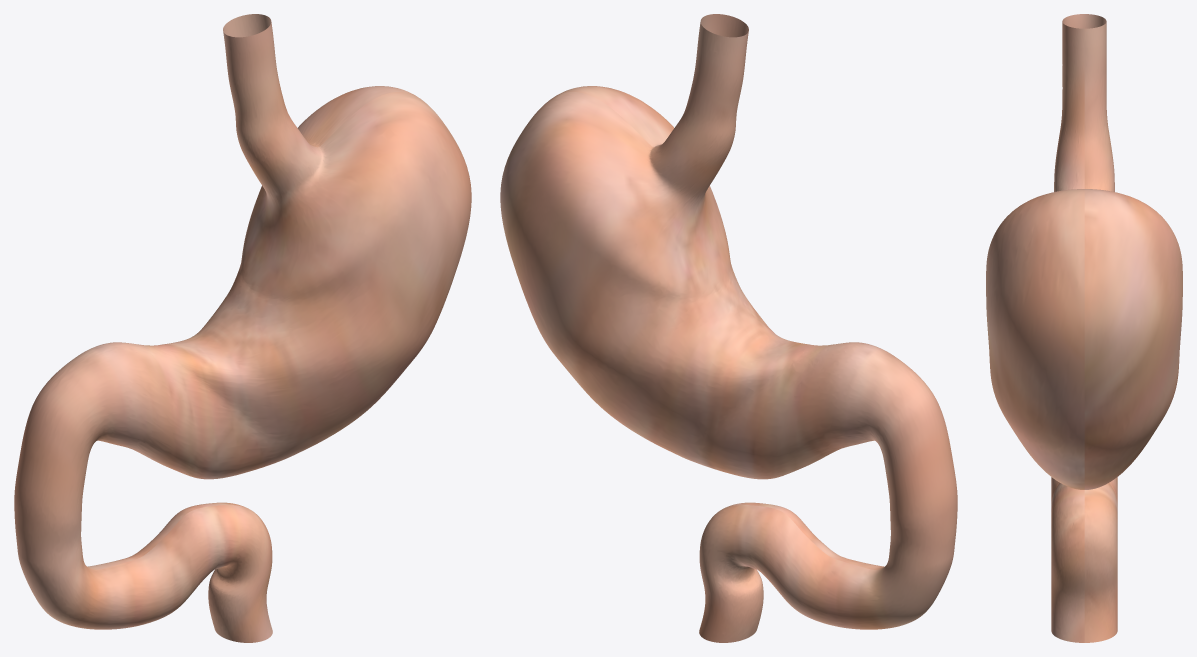
Rendered from stomach.glb.
3 renders of one model, left to right at view 1: azimuth 30°, elevation 25°; view 2: azimuth 150°, elevation 25°; view 3: azimuth 270°, elevation 25°, orthographic.
Parts seen in each view (by area): view 1: udambu; view 2: udambu; view 3: udambu.
Part boxes in pixels (x1,y1,x2,y2): udambu: (14, 14, 471, 642); udambu: (500, 14, 957, 642); udambu: (986, 14, 1182, 642).
Size of the model in its own units: 0.4566 by 0.6 by 0.1741.
Materials: 1 (1 with a texture image).
